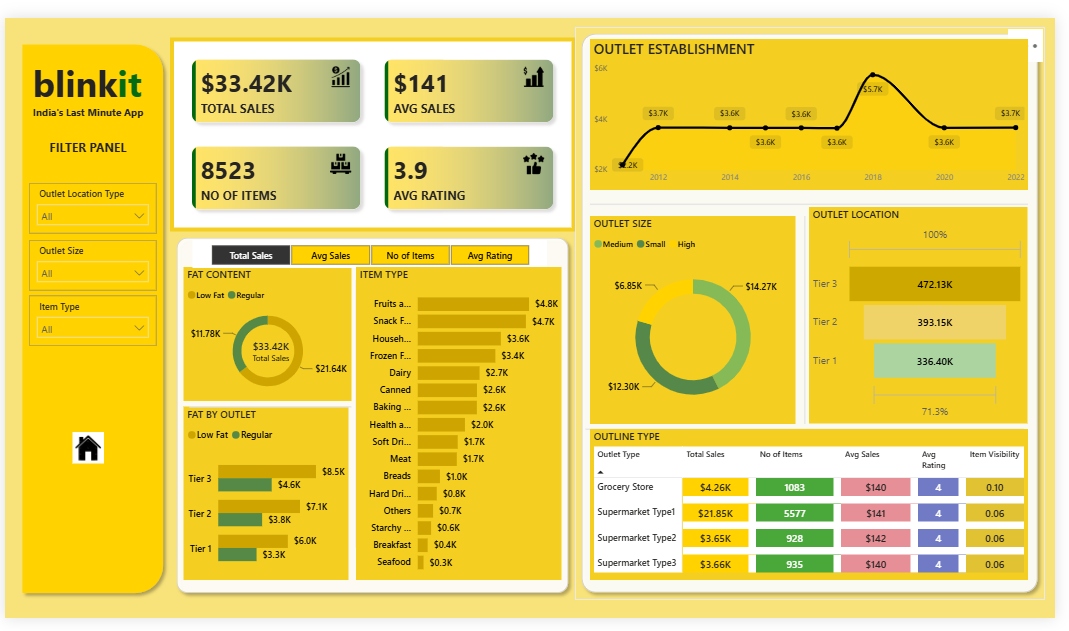

What the dashboard file says about the page in this screenshot:
{"tool":"powerbi","page":{"name":"Page 1","canvas":[1400,800],"ordinal":0},"visuals":[{"type":"shape","box":[14,26,206,750],"z":0},{"type":"textbox","box":[32,48,170,76],"z":1000},{"type":"textbox","box":[32,110,166,28],"z":2000},{"type":"cardVisual","fields":{"Data":["BlinkIT Grocery Data.Total Sales","BlinkIT Grocery Data.Avg Sales","BlinkIT Grocery Data.No of Items","BlinkIT Grocery Data.Avg Rating"]},"box":[220,25.7,540,258.6],"z":3000},{"type":"shape","box":[220,284.3,540,491.4],"z":4000},{"type":"donutChart","title":"FAT CONTENT","fields":{"Y":["BlinkIT Grocery Data.Total Sales"],"Category":["BlinkIT Grocery Data.Item Fat Content"]},"box":[237.1,332.9,224.3,178.6],"z":5000},{"type":"slicer","fields":{"Values":["Metrics.Metrics"]},"box":[250,295.7,472.9,37.1],"z":6000},{"type":"cardVisual","fields":{"Data":["BlinkIT Grocery Data.Total Sales"]},"box":[301.4,412.9,105.7,62.9],"z":7000},{"type":"clusteredBarChart","title":"FAT BY OUTLET","fields":{"Y":["BlinkIT Grocery Data.Total Sales"],"Series":["BlinkIT Grocery Data.Item Fat Content"],"Category":["BlinkIT Grocery Data.Outlet Location Type"]},"box":[237.1,518.6,220,231.4],"z":8000},{"type":"shape","box":[245.7,511.4,215.7,12.9],"z":9000},{"type":"shape","box":[461.4,350,12.9,355.7],"z":10000},{"type":"barChart","title":"ITEM TYPE","fields":{"Y":["BlinkIT Grocery Data.Total Sales"],"Category":["BlinkIT Grocery Data.Item Type"]},"box":[468.6,332.9,274.3,417.1],"z":11000},{"type":"shape","box":[760,12.9,625.7,762.9],"z":12000},{"type":"lineChart","title":"OUTLET ESTABLISHMENT","fields":{"Y":["BlinkIT Grocery Data.Total Sales"],"Category":["BlinkIT Grocery Data.Outlet Establishment Year"]},"box":[780,28.6,584.3,201.4],"z":13000},{"type":"shape","box":[780,241.4,584.3,12.9],"z":14000},{"type":"donutChart","title":"OUTLET SIZE","fields":{"Y":["BlinkIT Grocery Data.Total Sales"],"Category":["BlinkIT Grocery Data.Outlet Size"]},"box":[780,264.3,274.3,277.1],"z":15000},{"type":"shape","box":[1060,264.3,12.9,277.1],"z":16000},{"type":"funnel","title":"OUTLET LOCATION","fields":{"Y":["Sum(BlinkIT Grocery Data.Sales)"],"Category":["BlinkIT Grocery Data.Outlet Location Type"]},"box":[1072.9,252.9,291.4,288.6],"z":17000},{"type":"shape","box":[774.3,541.4,584.3,12.9],"z":18000},{"type":"pivotTable","title":"OUTLINE TYPE","fields":{"Rows":["BlinkIT Grocery Data.Outlet Type"],"Values":["BlinkIT Grocery Data.Total Sales","BlinkIT Grocery Data.No of Items","BlinkIT Grocery Data.Avg Sales","BlinkIT Grocery Data.Avg Rating","Avg(BlinkIT Grocery Data.Item Visibility)"]},"box":[780,548.6,584.3,201.4],"z":19000},{"type":"slicer","fields":{"Values":["BlinkIT Grocery Data.Outlet Location Type"]},"box":[31.4,220,170,67.1],"z":20000},{"type":"slicer","fields":{"Values":["BlinkIT Grocery Data.Outlet Size"]},"box":[32.9,295.7,170,67.1],"z":21000},{"type":"slicer","fields":{"Values":["BlinkIT Grocery Data.Item Type"]},"box":[31.4,370,170,67.1],"z":22000},{"type":"textbox","box":[40,155.7,141.4,32.9],"z":23000},{"type":"actionButton","box":[85,495,50,153.3],"z":25000},{"type":"textbox","box":[40,648.6,154.3,60],"z":27000}]}

Visuals, with their boxes on the page's 1400x800 design canvas (x1, y1, x2, y2). These are canvas units, not pixel positions in the 1069x631 screenshot, which may show the page scaled, cropped or inside an application window:
shape: [left=14, top=26, right=220, bottom=776]
textbox: [left=32, top=48, right=202, bottom=124]
textbox: [left=32, top=110, right=198, bottom=138]
cardVisual - BlinkIT Grocery Data.Total Sales x BlinkIT Grocery Data.Avg Sales: [left=220, top=26, right=760, bottom=284]
shape: [left=220, top=284, right=760, bottom=776]
"FAT CONTENT" donutChart: [left=237, top=333, right=461, bottom=512]
slicer - Metrics.Metrics: [left=250, top=296, right=723, bottom=333]
cardVisual - BlinkIT Grocery Data.Total Sales: [left=301, top=413, right=407, bottom=476]
"FAT BY OUTLET" clusteredBarChart: [left=237, top=519, right=457, bottom=750]
shape: [left=246, top=511, right=461, bottom=524]
shape: [left=461, top=350, right=474, bottom=706]
"ITEM TYPE" barChart: [left=469, top=333, right=743, bottom=750]
shape: [left=760, top=13, right=1386, bottom=776]
"OUTLET ESTABLISHMENT" lineChart: [left=780, top=29, right=1364, bottom=230]
shape: [left=780, top=241, right=1364, bottom=254]
"OUTLET SIZE" donutChart: [left=780, top=264, right=1054, bottom=541]
shape: [left=1060, top=264, right=1073, bottom=541]
"OUTLET LOCATION" funnel: [left=1073, top=253, right=1364, bottom=542]
shape: [left=774, top=541, right=1359, bottom=554]
"OUTLINE TYPE" pivotTable: [left=780, top=549, right=1364, bottom=750]
slicer - BlinkIT Grocery Data.Outlet Location Type: [left=31, top=220, right=201, bottom=287]
slicer - BlinkIT Grocery Data.Outlet Size: [left=33, top=296, right=203, bottom=363]
slicer - BlinkIT Grocery Data.Item Type: [left=31, top=370, right=201, bottom=437]
textbox: [left=40, top=156, right=181, bottom=189]
actionButton: [left=85, top=495, right=135, bottom=648]
textbox: [left=40, top=649, right=194, bottom=709]
